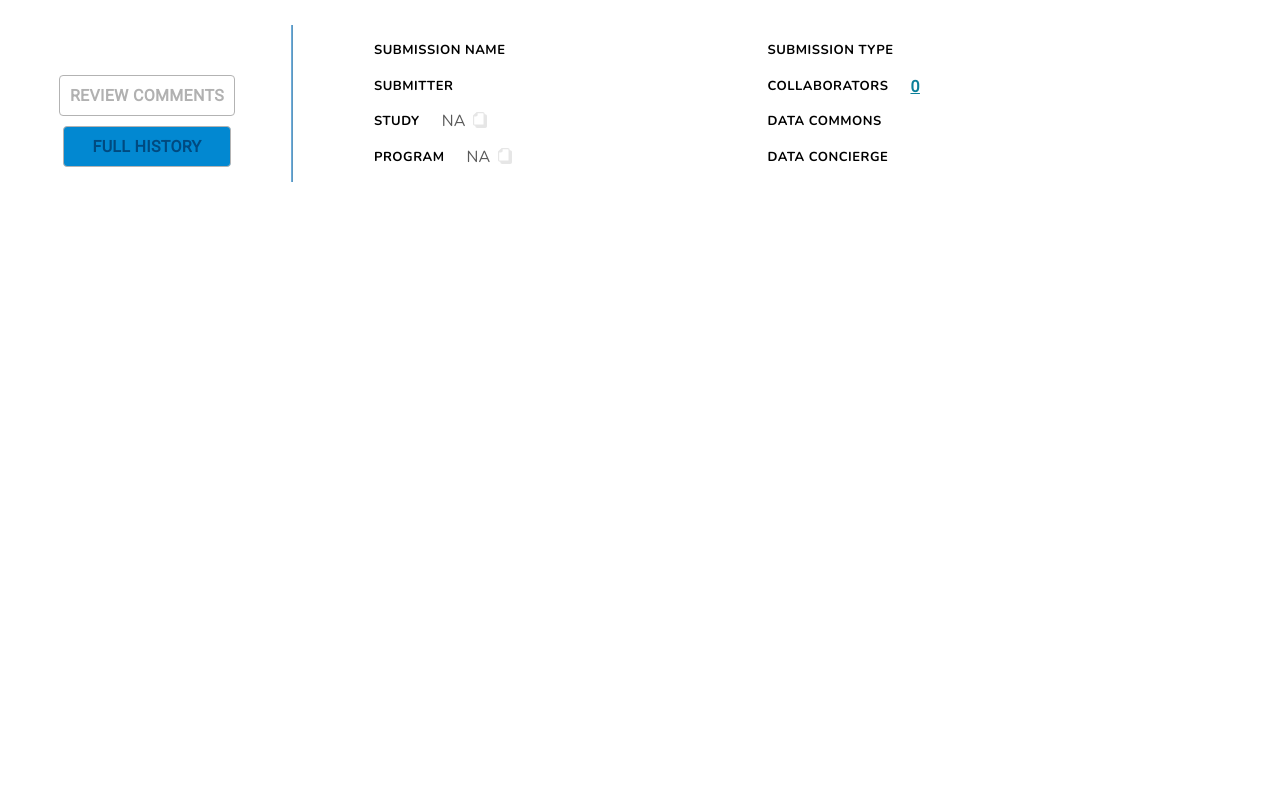
Test: DataSubmissionSummary History Dialog Tests › renders the modal and displays history events in descending order
Click the button "Full History" at [147, 146], box [63, 126, 231, 167]
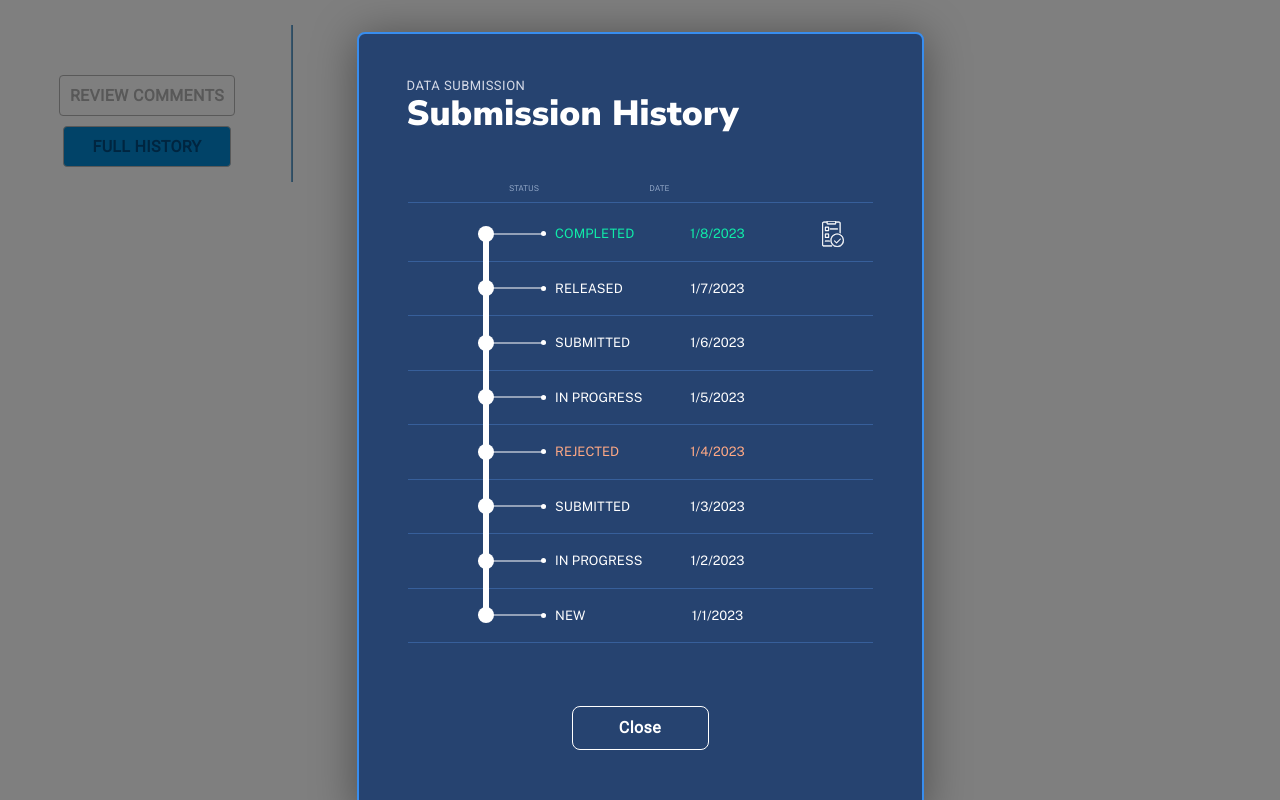
Check: the text with test id "history-item-\\d-status" reads "COMPLETED", box [555, 226, 634, 241]
Check: the text with test id "history-item-\\d-date" reads "1/8/2023", box [690, 226, 745, 241]
Check: the text with test id "history-item-\\d-status" reads "RELEASED", box [555, 280, 623, 296]
